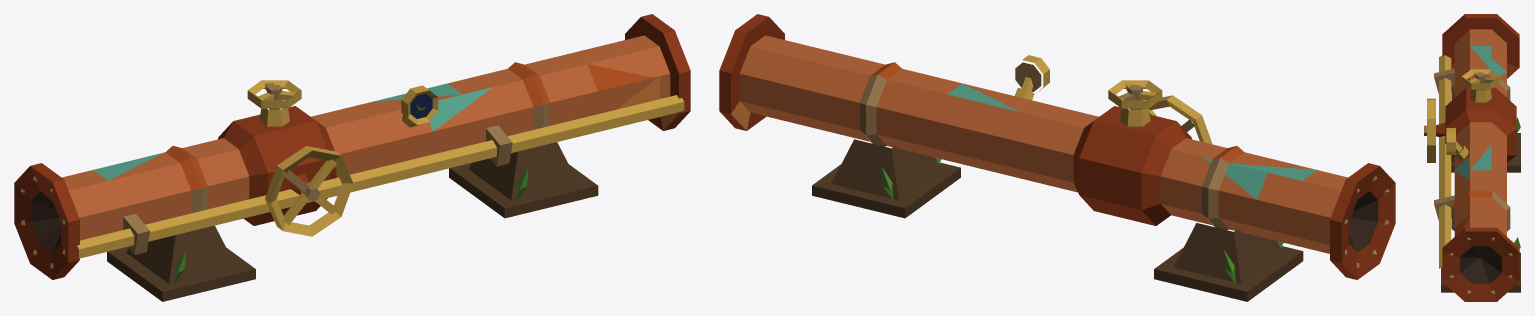
Rendered from stream.glb.
3 renders of one model, left to right at view 1: azimuth 30°, elevation 25°; view 2: azimuth 150°, elevation 25°; view 3: azimuth 270°, elevation 25°, orthographic. The views are drawn at different scales.
Visible parts, largest first — view 1: pipe-run, valve-wheel, gauge, bonnet-wheel; view 2: pipe-run, bonnet-wheel, valve-wheel, gauge; view 3: pipe-run, bonnet-wheel, valve-wheel, gauge.
Part boxes in pixels (box(x1,y1,x2,y2)): pipe-run: box(14, 14, 690, 301); valve-wheel: box(265, 146, 353, 236); gauge: box(401, 85, 438, 124); bonnet-wheel: box(247, 80, 301, 108); pipe-run: box(719, 14, 1395, 301); bonnet-wheel: box(1108, 80, 1162, 108); valve-wheel: box(1140, 95, 1212, 144); gauge: box(1015, 55, 1049, 91); pipe-run: box(1424, 14, 1520, 301); bonnet-wheel: box(1461, 69, 1500, 89); valve-wheel: box(1427, 98, 1435, 162); gauge: box(1446, 128, 1461, 154).
Size of the model in its own units: 4 by 0.981 by 0.751.
